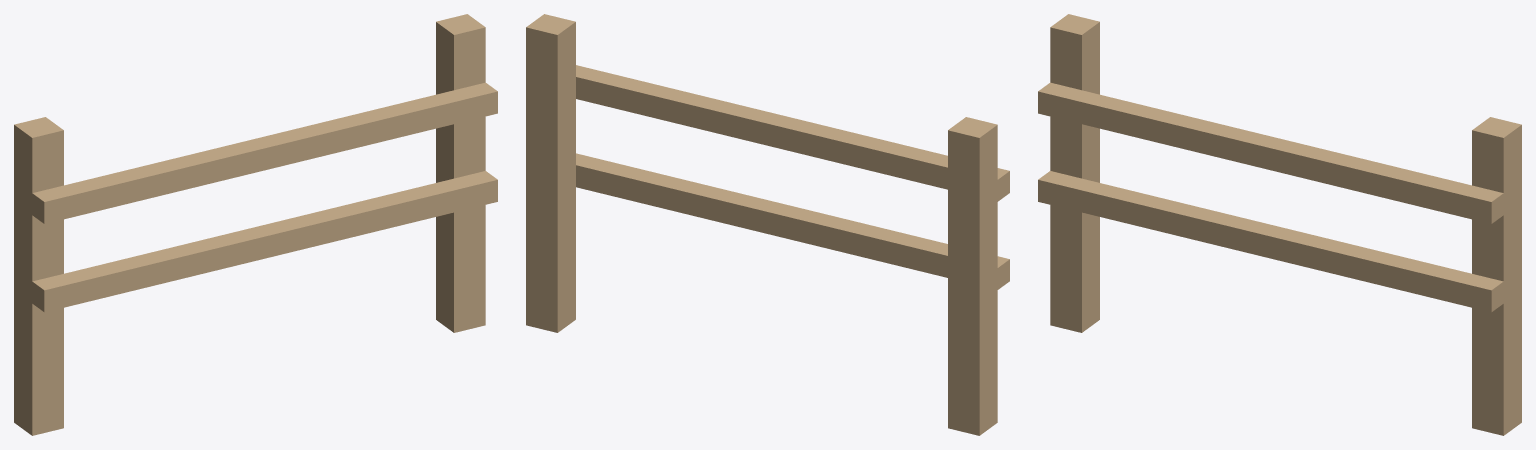
Rendered from hitching_post.glb.
3 views of the same model, side by side, from view 1: azimuth 30°, elevation 25°; view 2: azimuth 150°, elevation 25°; view 3: azimuth 330°, elevation 25° (orthographic).
Parts seen in each view (by area): view 1: rail_top, rail_low, post_l, post_r; view 2: post_r, post_l, rail_top, rail_low; view 3: rail_top, rail_low, post_r, post_l.
Boxes of the visible parts, x1,y1,x2,y2 form: rail_top: (32, 82, 497, 223); rail_low: (32, 171, 497, 312); post_l: (14, 117, 63, 435); post_r: (436, 14, 485, 332); post_r: (526, 14, 575, 332); post_l: (948, 117, 997, 435); rail_top: (576, 65, 1009, 201); rail_low: (576, 153, 1009, 289); rail_top: (1038, 82, 1503, 223); rail_low: (1038, 171, 1503, 312); post_r: (1472, 117, 1521, 435); post_l: (1050, 14, 1099, 332).
Bounding box in the file's own units: 2.15 × 1.35 × 0.25.
